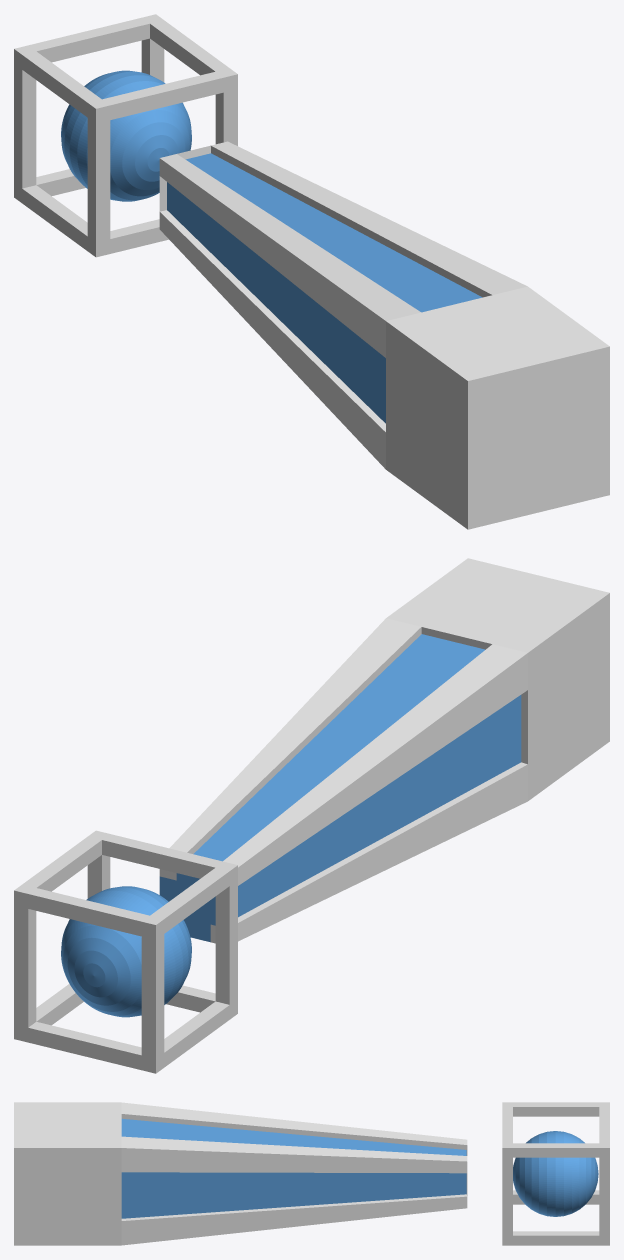
The model's file is AllyStone4.fbx.
The picture shows the model from 3 angles, top to bottom: view 1: azimuth 30°, elevation 25°; view 2: azimuth 150°, elevation 25°; view 3: azimuth 270°, elevation 25°; orthographic projection. The views are drawn at different scales.
Parts seen in each view (by area): view 1: Cube, Cube.001, Sphere; view 2: Cube, Cube.001, Sphere; view 3: Cube, Cube.001, Sphere.
Boxes of the visible parts, <box> form: Cube: <box>159,141,609,529</box>; Cube.001: <box>14,14,237,257</box>; Sphere: <box>61,70,191,201</box>; Cube: <box>159,558,609,943</box>; Cube.001: <box>14,830,237,1073</box>; Sphere: <box>61,886,191,1017</box>; Cube: <box>14,1102,467,1245</box>; Cube.001: <box>502,1102,609,1245</box>; Sphere: <box>513,1131,598,1216</box>.
Size of the model in its own units: 3000 by 3000 by 16612.
